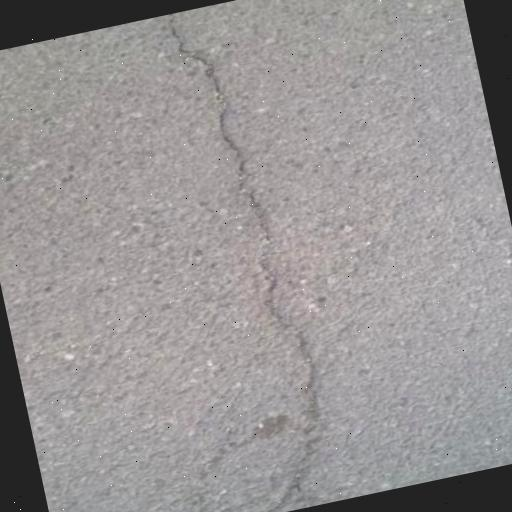spalling: (149, 12, 337, 510)
